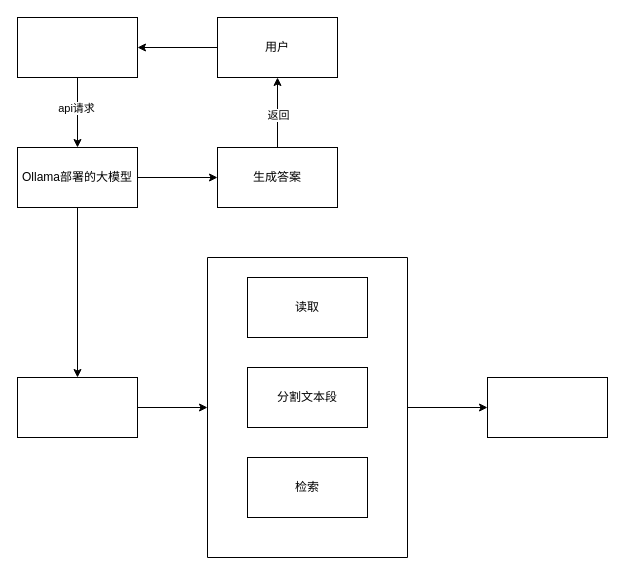
Some shapes in this 625 by 575 pixel diagram are drawn without their labels. The centre of each missing label's shape, as x and y in pixels:
"langchain4j" belongs at pixel 77 407.
"txt知识库" belongs at pixel 547 407.
"输入问题" belongs at pixel 77 47.
